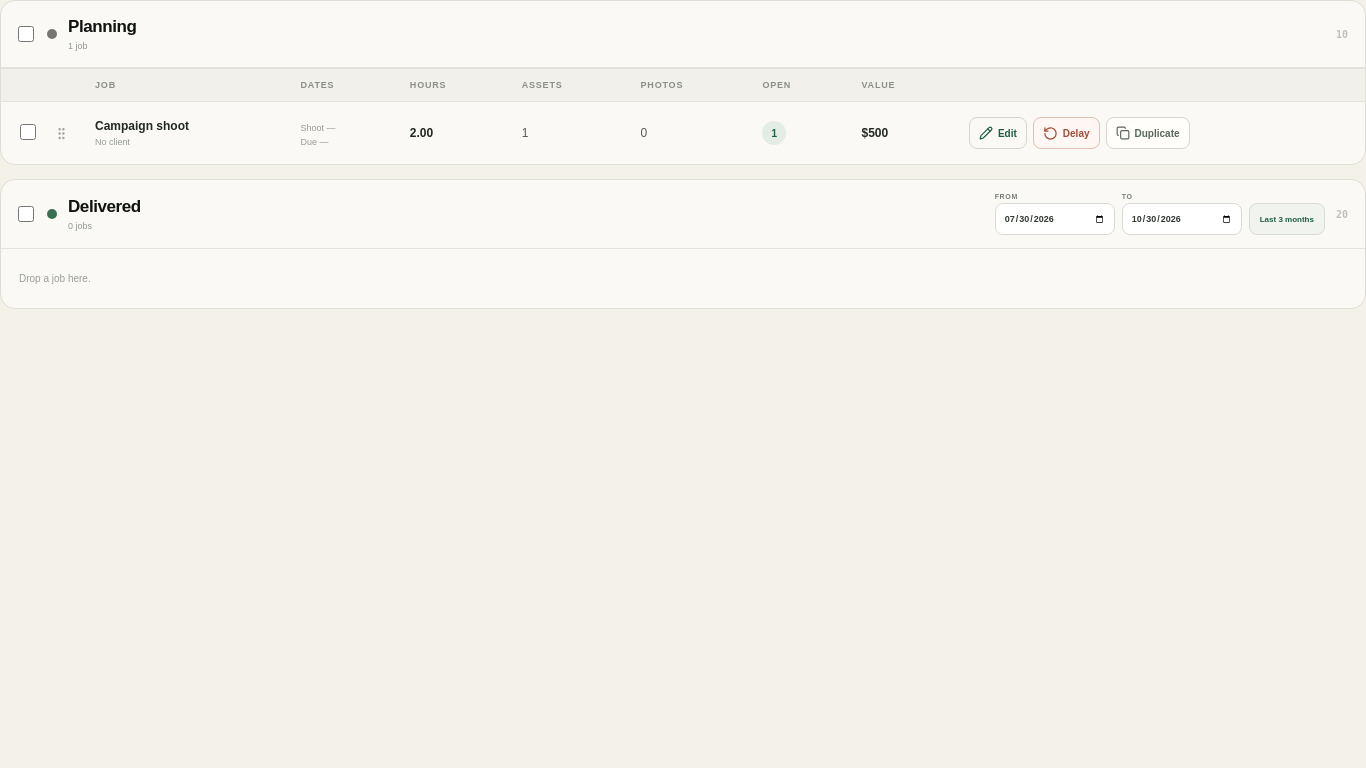
StatusGroupedTable › shows the saved client delivery link in the job editor
Click the heading "Edit" at point(998, 133), box [969,117,1027,149]
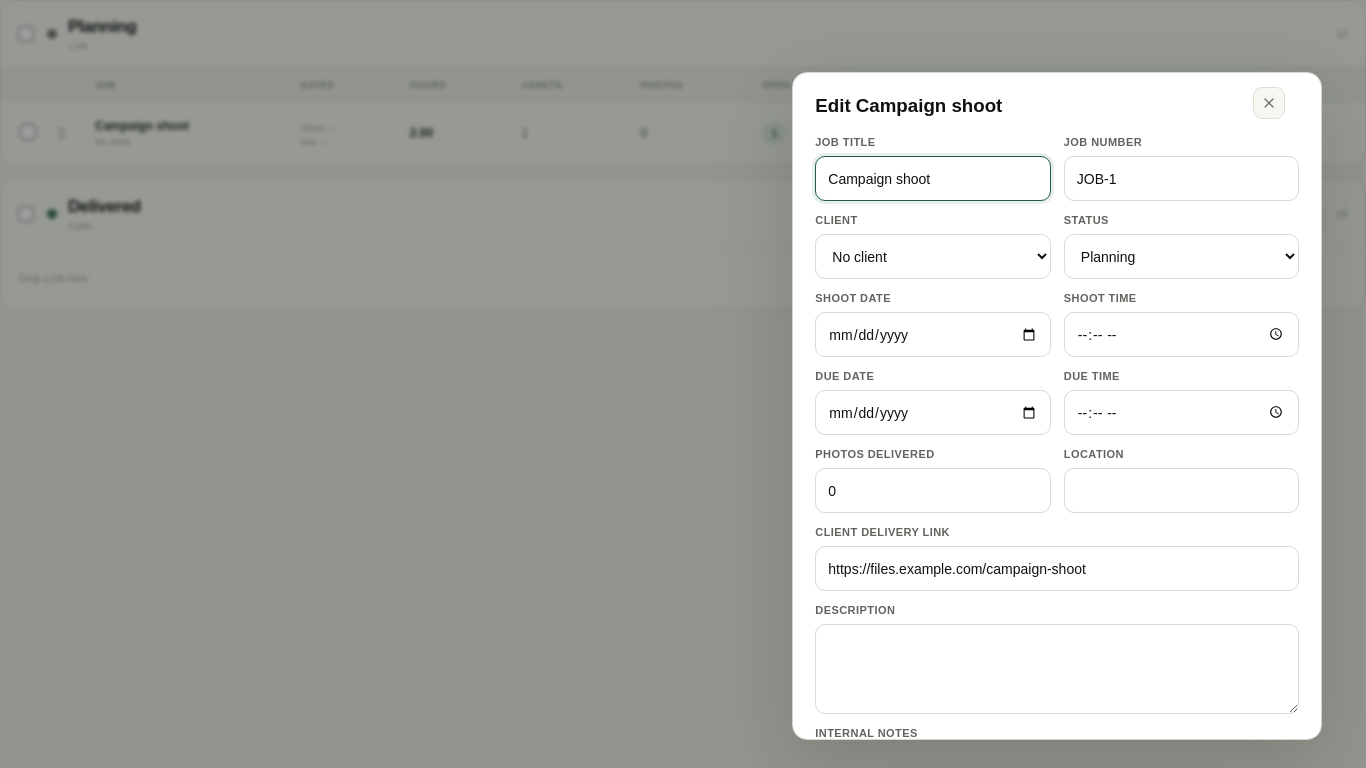
Result: the field named "delivery_url" holds "https://files.example.com/campaign-shoot" at [815,546,1299,591]
